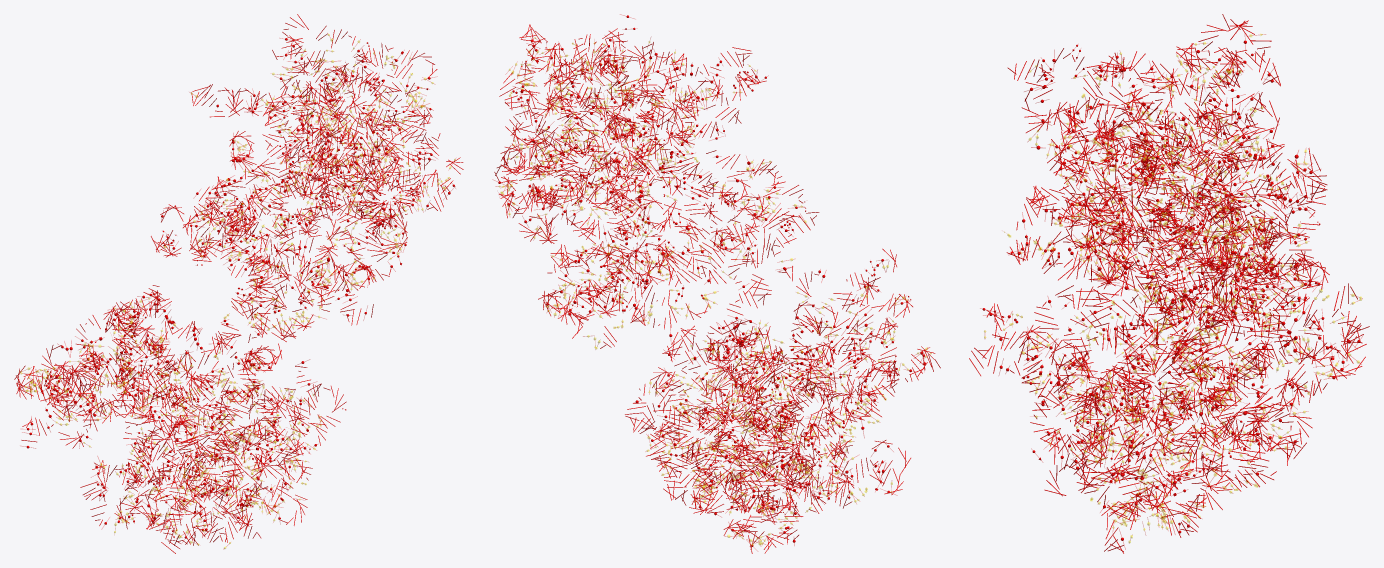
Rendered from candidate.gltf.
3 views of the same model, side by side, from view 1: azimuth 30°, elevation 25°; view 2: azimuth 150°, elevation 25°; view 3: azimuth 270°, elevation 25° (orthographic). The views are drawn at different scales.
Size of the model in its own units: 346 by 390 by 237.
